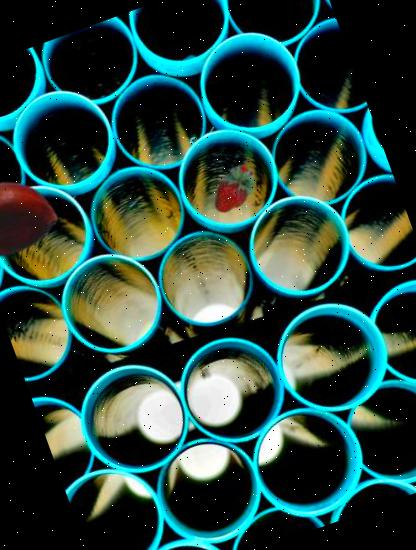Chestnut: (0, 160, 70, 272)
Strawberry: (201, 155, 271, 225)
